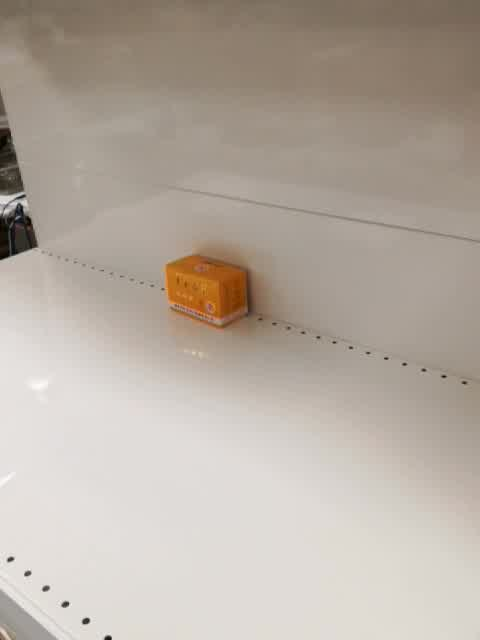jasminetea: (165, 251, 252, 331)
